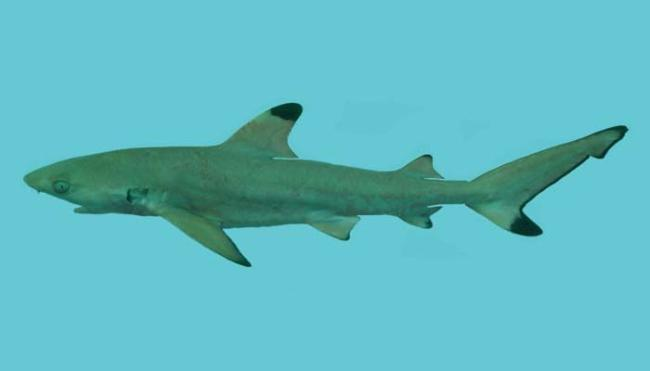fish: (24, 103, 629, 268)
